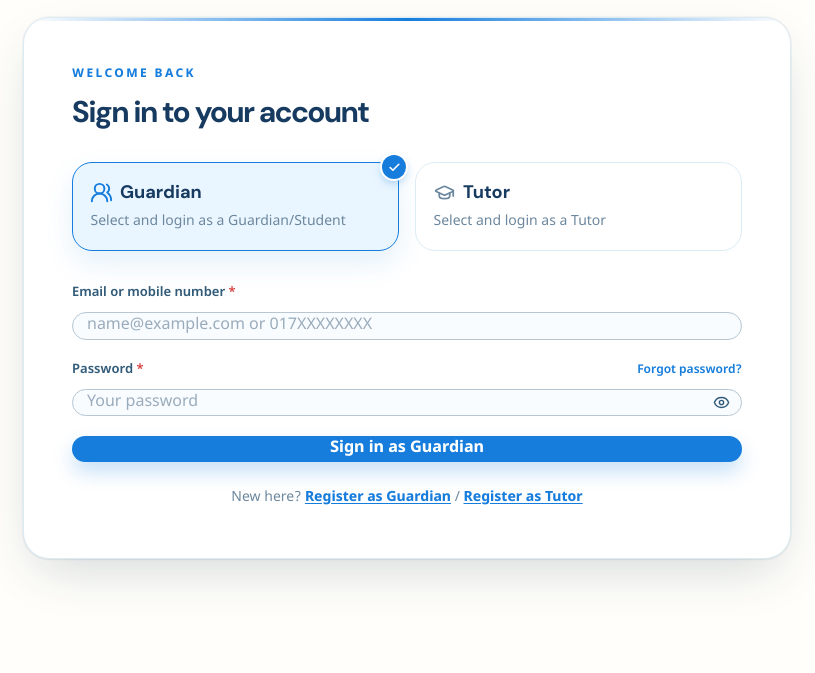
Test case: sign-in error messages › shows a suspended-account (FORBIDDEN) message verbatim
The image size is (815, 673).
In the field labelled "Email or mobile number *": (407, 326) [72,312,742,340], type "guardian@example.com"
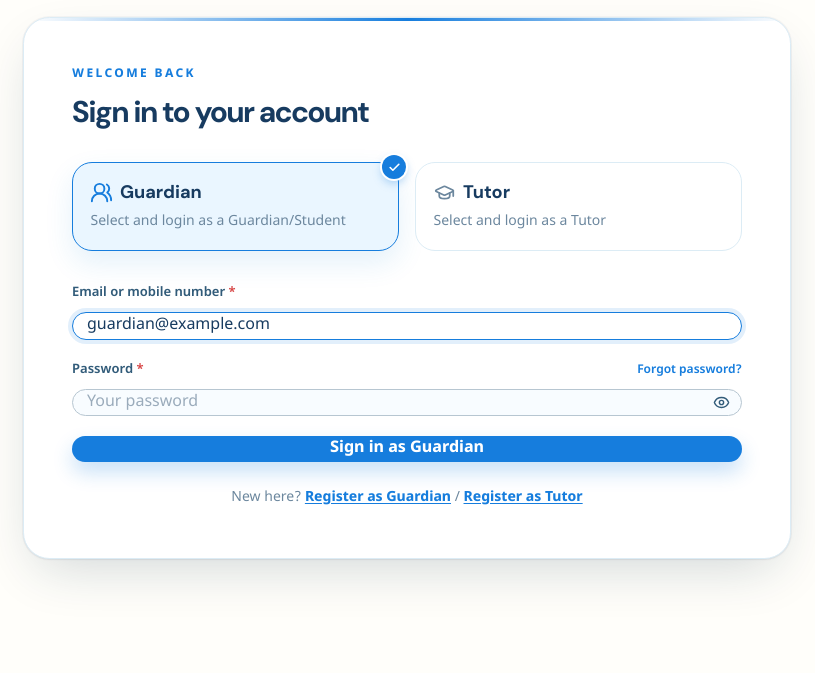
In the password field labelled "Password *": (407, 402) [72,388,742,416], type "correct-password"
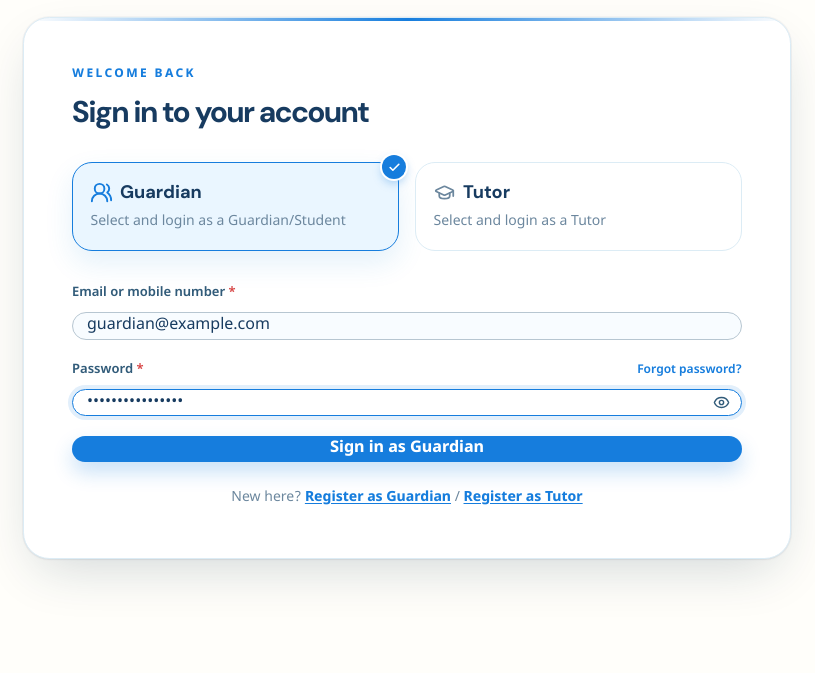
Click the button "Sign in as Guardian": (407, 449) [72,436,742,462]
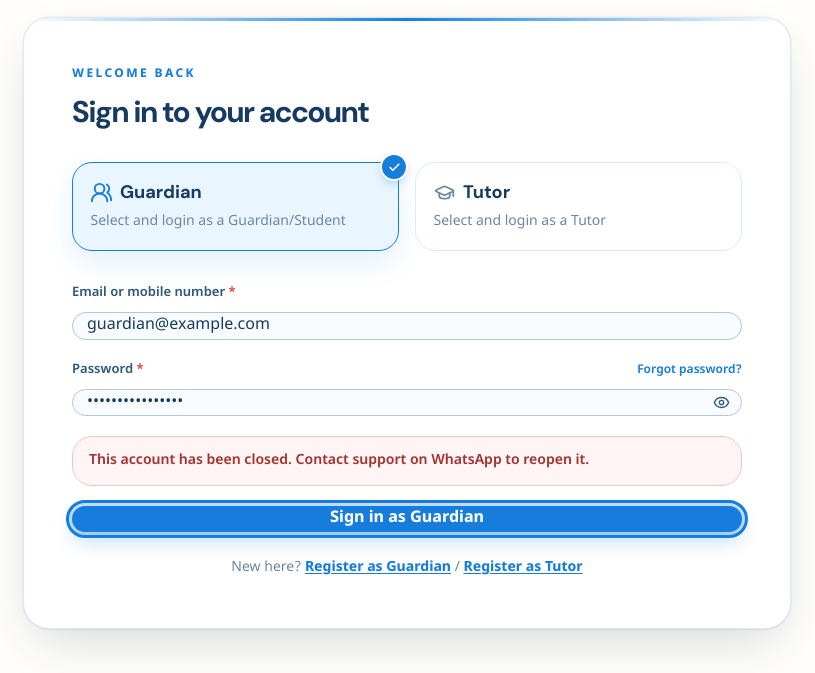
Check: the message reads "This account has been closed. Contact support on WhatsApp to reopen it.", box [89,451,589,470]
